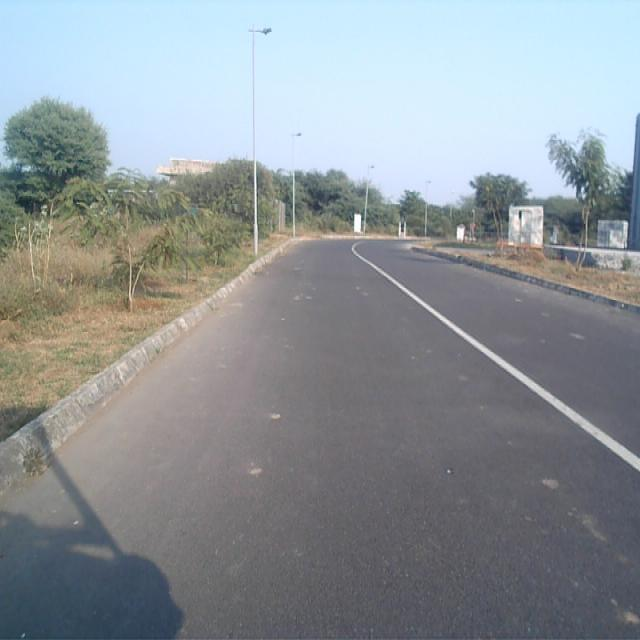lane: (0, 240, 640, 640)
